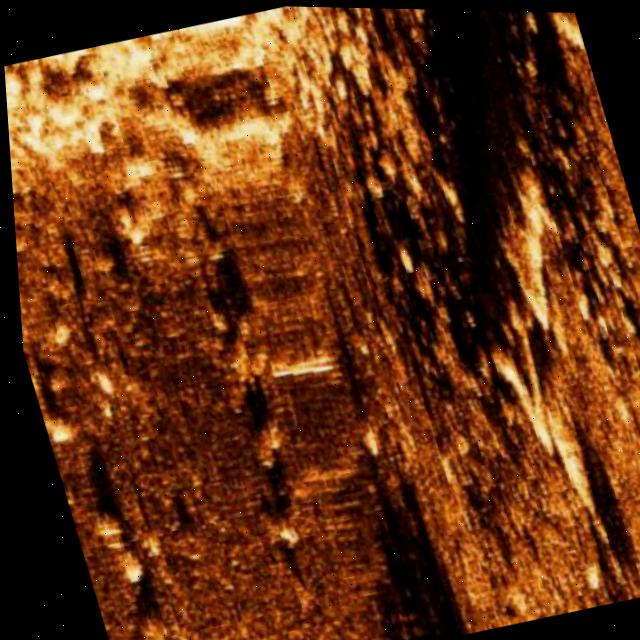bedrock group: (0, 0, 640, 559)
